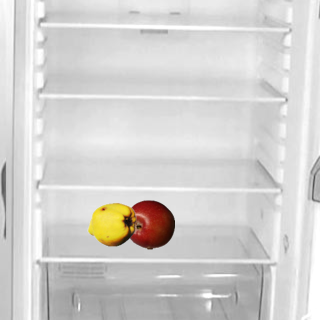Apple Braeburn: (124, 199, 174, 249)
Quince: (86, 199, 136, 249)
